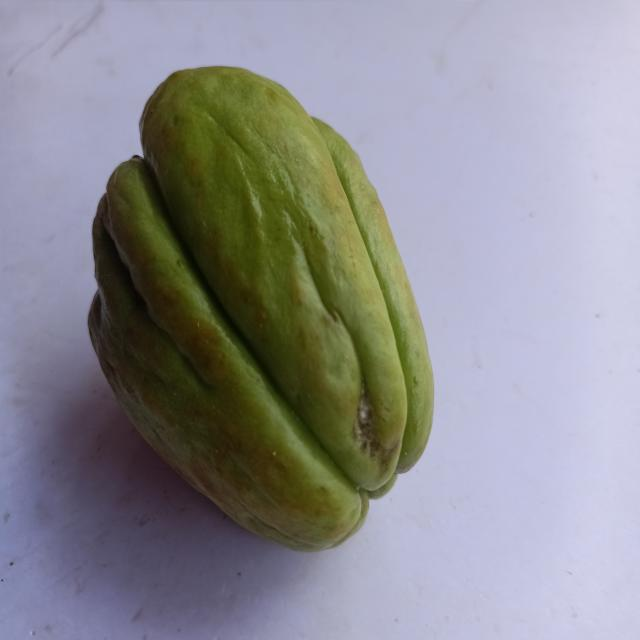Chayote: (69, 51, 454, 558)
